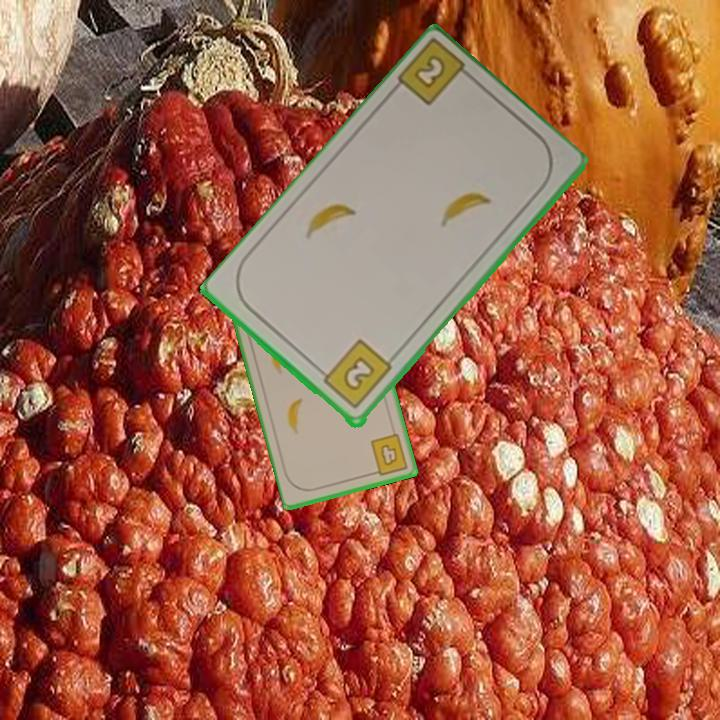2b: (314, 336, 395, 413), (393, 38, 479, 110)
4b: (367, 430, 411, 478)
